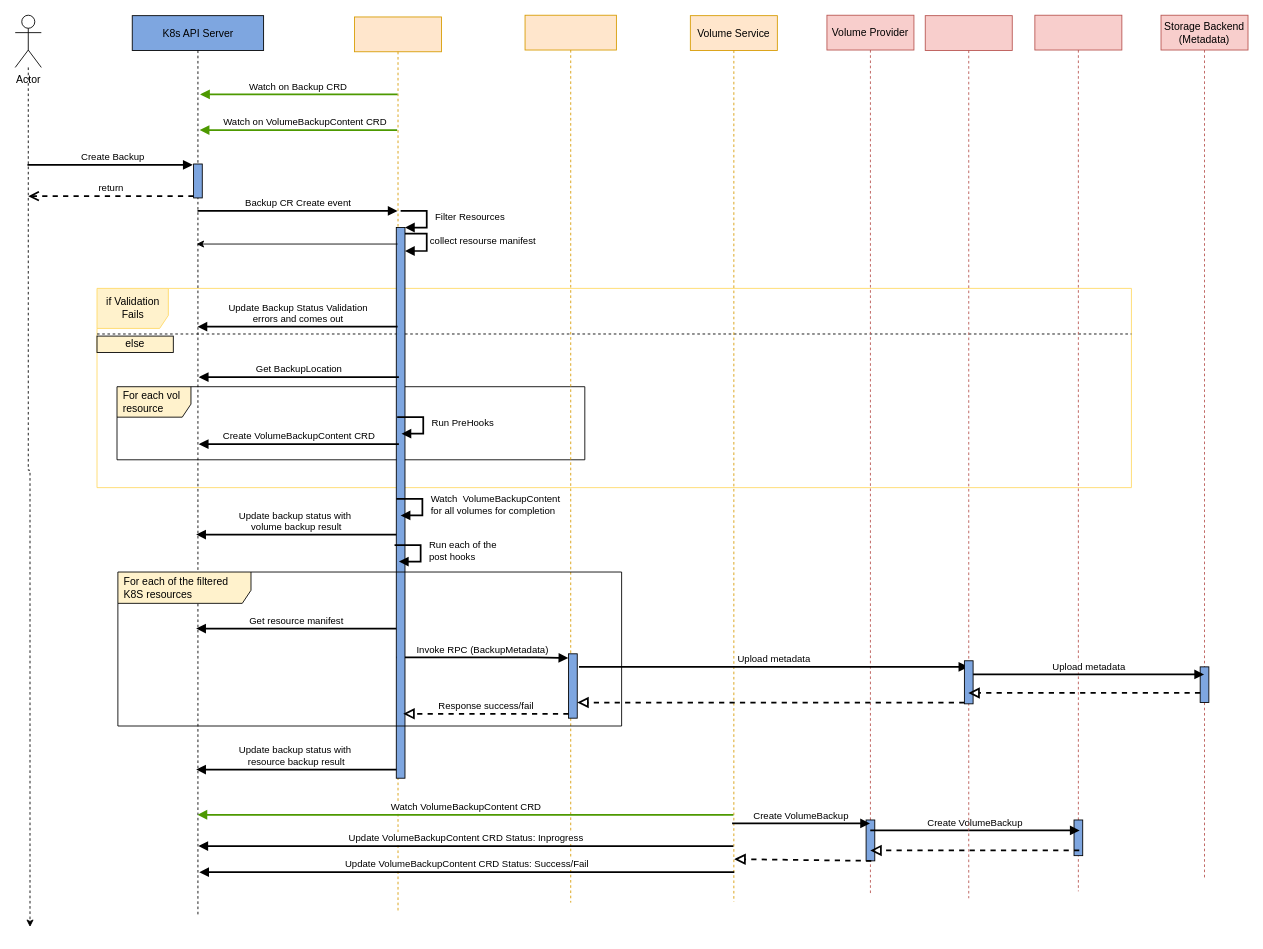
Some shapes in this 1263 by 949 pixel diagram are drawn without their labels. The box of each missing label's shape, as (x1, y1, x2, y2) in pixels:
Backup Controller: (354, 16, 442, 911)
Metadata Provider: (924, 15, 1012, 898)
Metadata Service: (524, 14, 616, 903)
Storage Backend (Volume): (1034, 14, 1122, 891)
